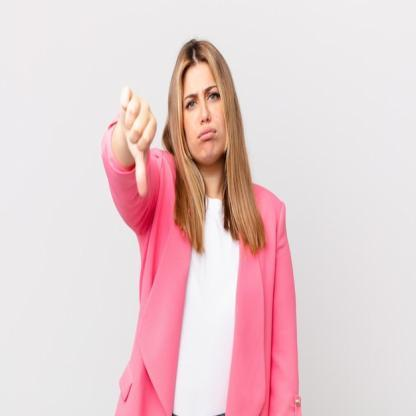thumb_down: (118, 85, 156, 200)
